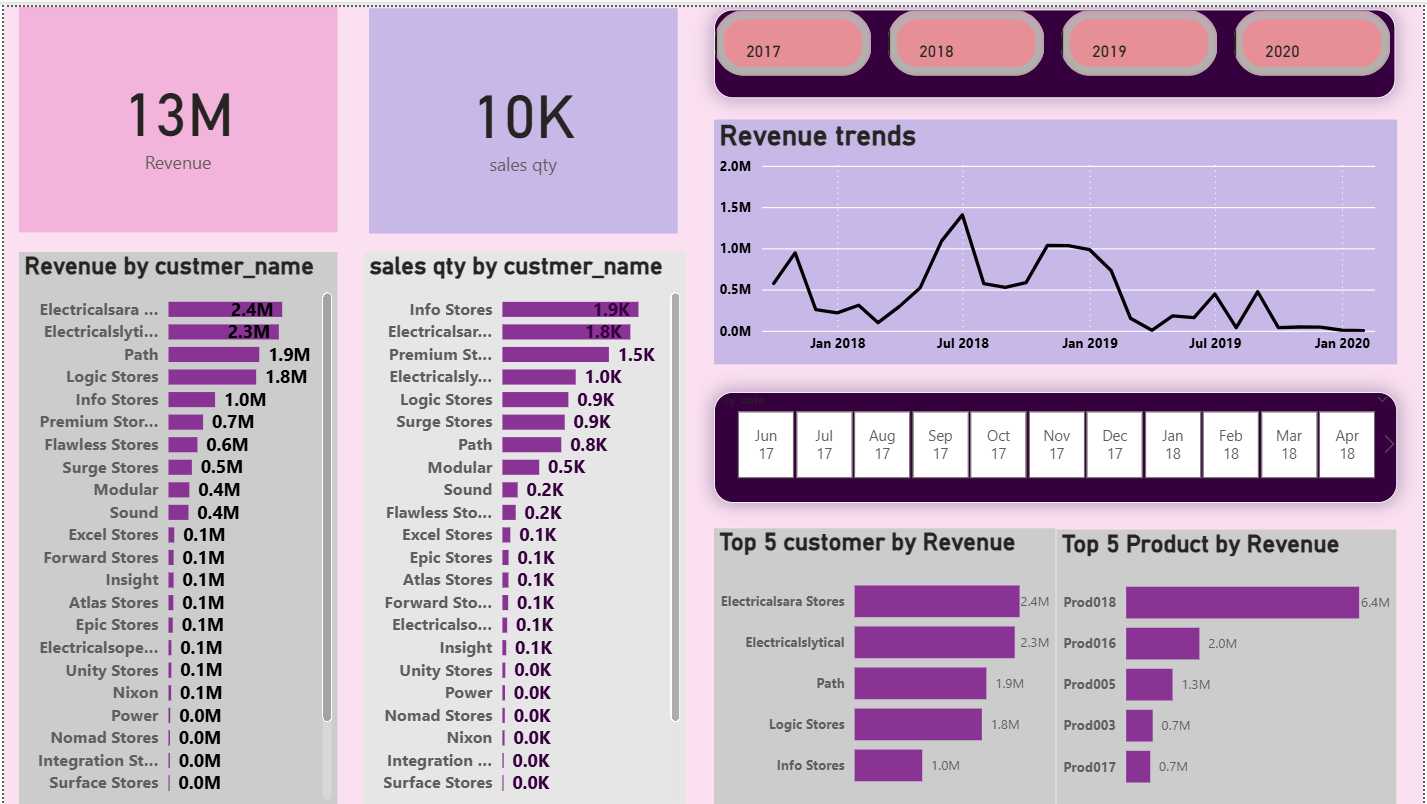

This screenshot's page, from the dashboard's own definition file:
{"tool":"powerbi","page":{"name":"Page 1","canvas":[1280,720],"ordinal":0},"visuals":[{"type":"card","fields":{"Values":["basemeasures.Revenue"]},"box":[13,0,287.1,203.4],"z":0},{"type":"card","fields":{"Values":["basemeasures.sales qty"]},"box":[328.9,1.4,278.5,203.4],"z":1000},{"type":"barChart","fields":{"Y":["basemeasures.Revenue"],"Category":["sales_customer.custmer_name"]},"box":[13,220.7,287.1,499.2],"z":2000},{"type":"barChart","fields":{"Category":["sales_customer.custmer_name"],"Y":["basemeasures.sales qty"]},"box":[324.6,220.7,290,499.2],"z":3000},{"type":"slicer","fields":{"Values":["sales_date.cy_date"]},"box":[640.7,347.1,615.8,99.7],"z":4000},{"type":"advancedSlicerVisual","fields":{"Values":["sales_date.year"]},"box":[640.7,1.8,614,80.1],"z":5000},{"type":"barChart","title":"Top 5 customer by Revenue","fields":{"Y":["basemeasures.Revenue"],"Category":["sales_customer.custmer_name"]},"box":[640.7,469.9,307.9,249.2],"z":6000},{"type":"barChart","title":"Top 5 Product by Revenue","fields":{"Y":["basemeasures.Revenue"],"Category":["sales_product.product_code"]},"box":[948.6,471.6,306.1,249.2],"z":7000},{"type":"lineChart","title":"Revenue trends","fields":{"Y":["basemeasures.Revenue"],"Category":["sales_date.cy_date.Variation.Date Hierarchy.Year","sales_date.cy_date.Variation.Date Hierarchy.Quarter","sales_date.cy_date.Variation.Date Hierarchy.Month","sales_date.cy_date.Variation.Date Hierarchy.Day"]},"box":[640.7,101.4,615.8,220.7],"z":8000}]}

Visuals, with their boxes in screenshot pixels (x1, y1, x2, y2), scaled from the page's 1280x720 canvas onto the 1427x804 screenshot:
card - basemeasures.Revenue: {"x1": 14, "y1": 0, "x2": 335, "y2": 227}
card - basemeasures.sales qty: {"x1": 367, "y1": 2, "x2": 677, "y2": 229}
barChart - basemeasures.Revenue x sales_customer.custmer_name: {"x1": 14, "y1": 246, "x2": 335, "y2": 803}
barChart - sales_customer.custmer_name x basemeasures.sales qty: {"x1": 362, "y1": 246, "x2": 685, "y2": 803}
slicer - sales_date.cy_date: {"x1": 714, "y1": 388, "x2": 1401, "y2": 499}
advancedSlicerVisual - sales_date.year: {"x1": 714, "y1": 2, "x2": 1399, "y2": 91}
"Top 5 customer by Revenue" barChart: {"x1": 714, "y1": 525, "x2": 1058, "y2": 803}
"Top 5 Product by Revenue" barChart: {"x1": 1058, "y1": 527, "x2": 1399, "y2": 803}
"Revenue trends" lineChart: {"x1": 714, "y1": 113, "x2": 1401, "y2": 360}
